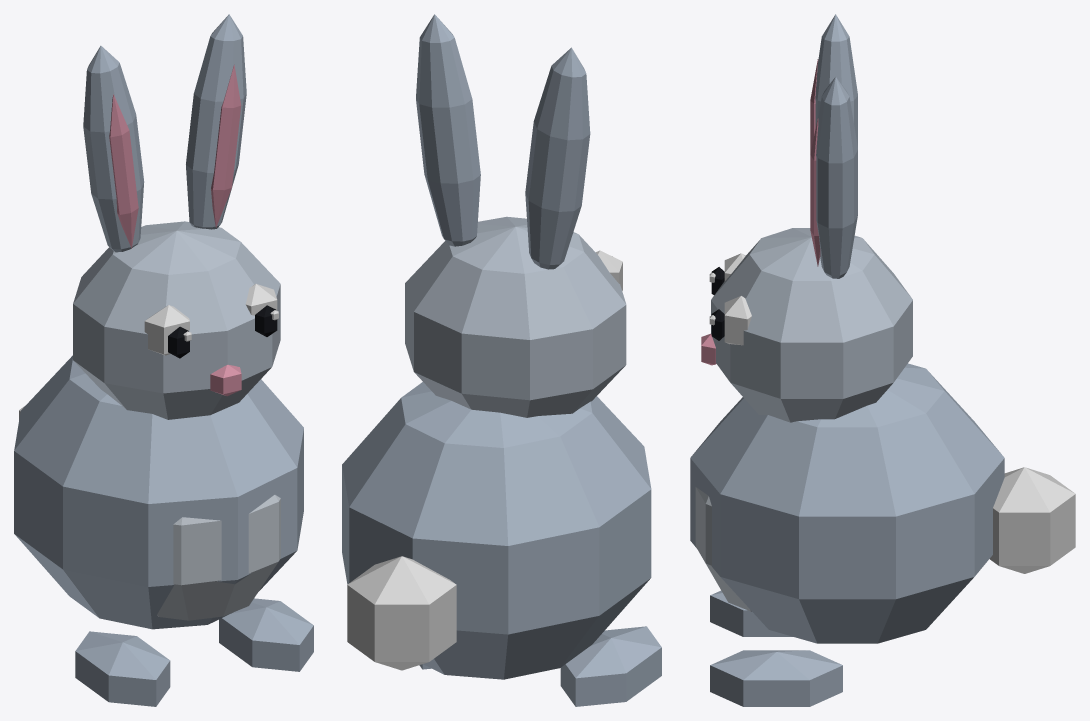
The model's file is critter_bunny.glb.
3 renders of one model, left to right at view 1: azimuth 30°, elevation 25°; view 2: azimuth 150°, elevation 25°; view 3: azimuth 270°, elevation 25°, orthographic. The views are drawn at different scales.
Parts seen in each view (by area): view 1: bunny; view 2: bunny; view 3: bunny.
Part boxes in pixels (x1,y1,x2,y2): bunny: [14, 14, 313, 706]; bunny: [342, 14, 661, 706]; bunny: [690, 14, 1075, 706].
Size of the model in its own units: 0.4703 by 1.17 by 0.6529.
